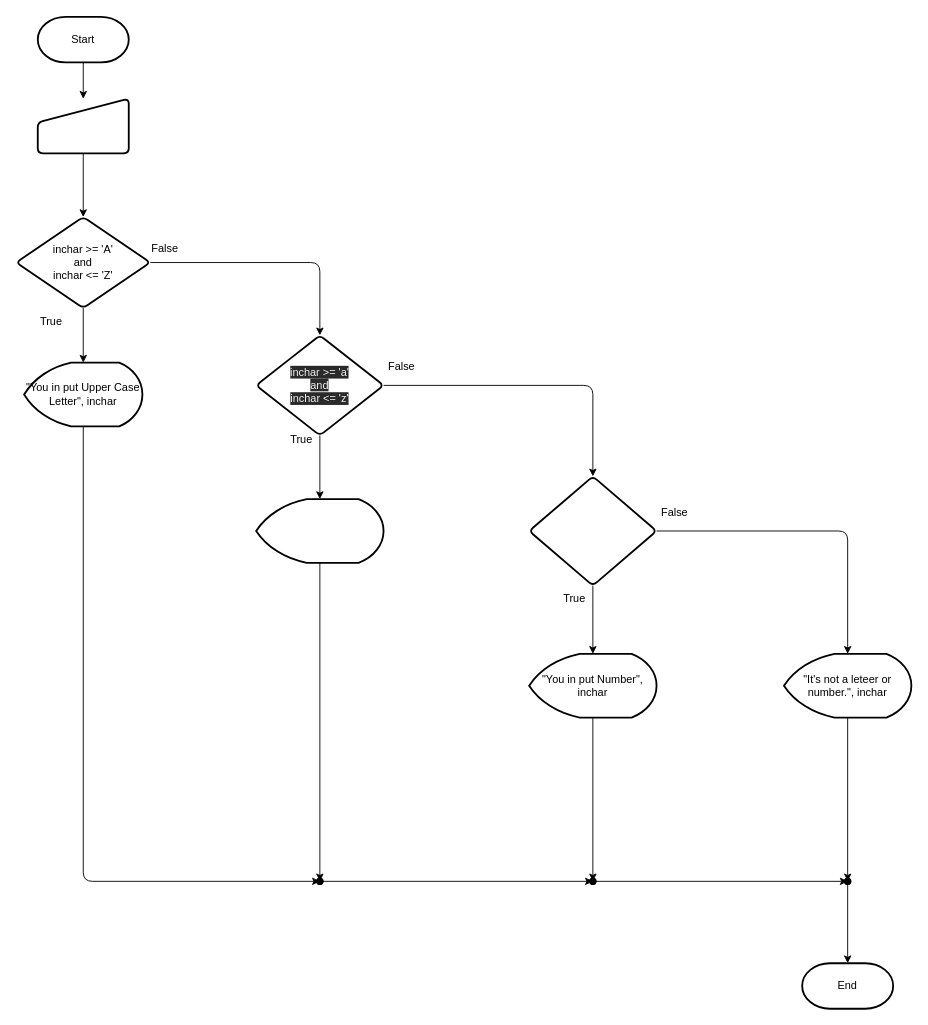
The diagram is 928 pixels wide and 1025 high, and some of its shapes have lost their labels. Here are the shapes that lost their labels. From the top down, the centre of each, then its label:
point (82, 125): inchar
point (319, 530): "You in put Lower Case Letter", inchar
point (592, 530): inchar >= '0' and inchar <= '9'
